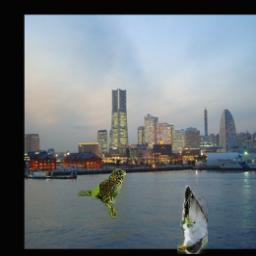Cuckoo: (178, 185, 209, 254)
Sparrow: (79, 168, 127, 218)
